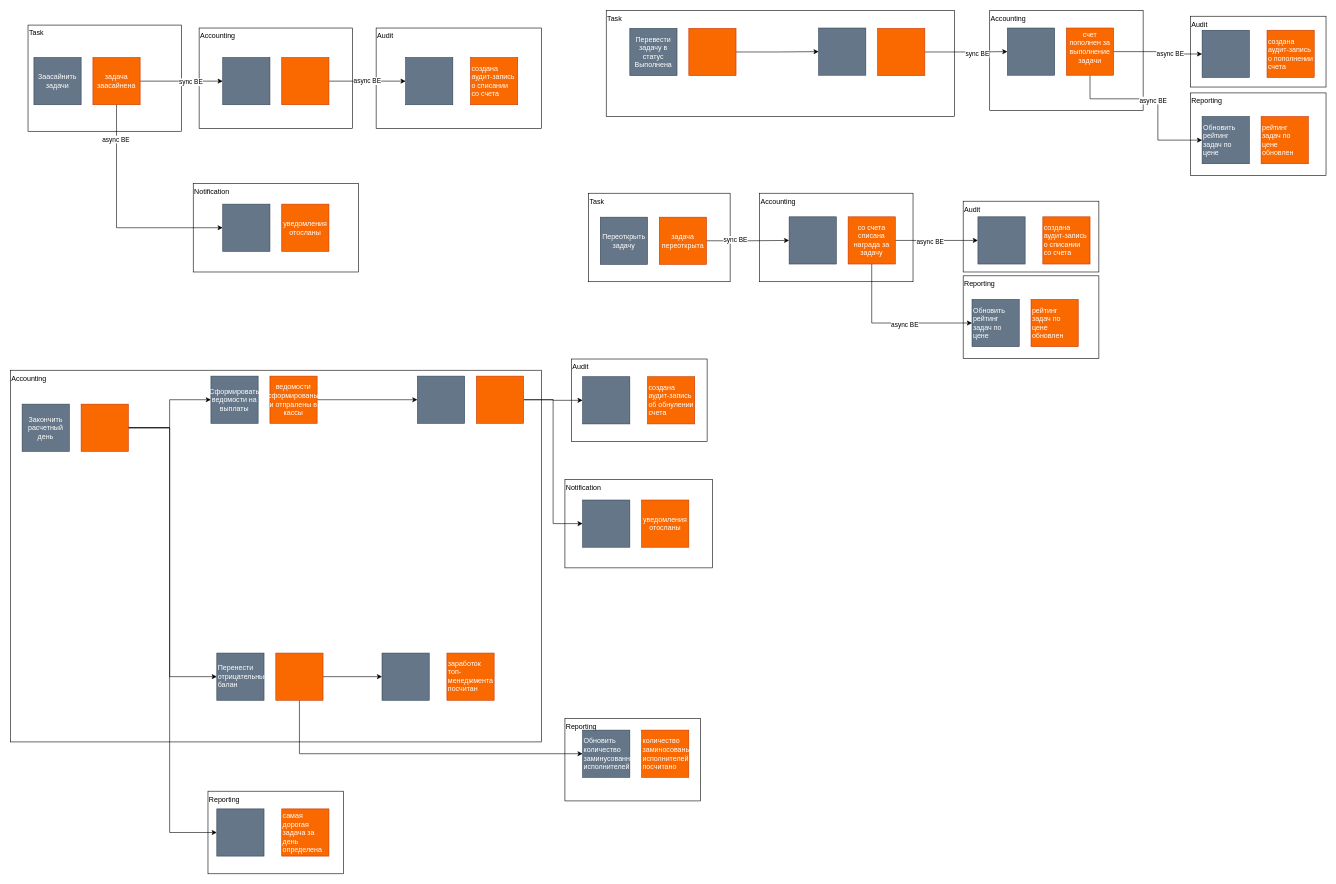
This 1336x884 diagram has some shape labels left out. The shapes that lost their labels are listed below. From the top down, each one's box as (x1, y1, x2, y2) in pixels, then its label:
(688, 28, 736, 76): задача выполнена
(818, 27, 866, 75): Определить стоимость задачи
(877, 28, 925, 76): стоимость задачи определена
(1007, 27, 1055, 75): Пополнить счет исполнителя
(1202, 30, 1249, 77): Создать запись о пополнении счета для аудита
(222, 57, 270, 105): Списать стоимость задачи со счета исполнителя
(281, 57, 329, 105): со счета списаны деньги за ассайн задачи
(405, 57, 453, 105): Создать запись о списании со счета для аудита за задачу
(222, 204, 270, 251): Уведомить сотрудника по почте/слаку о новой задаче
(789, 216, 836, 264): Убрать со счета награду за выполнение задачи
(977, 216, 1025, 264): Создать запись об отмене нарады за задачу для аудита
(417, 376, 465, 423): Обнулить счет сотрудника
(476, 376, 524, 423): счет обнулен
(582, 376, 630, 424): Создать запись о обнулении счета (выплаты)
(81, 404, 128, 451): день закончен
(582, 499, 630, 547): Уведомить сотрудника по почте/слаку о выплате
(275, 652, 323, 700): отицательный баланс перенесен на след. день
(381, 652, 429, 700): Обновить счет топ-менеджмента
(216, 808, 264, 856): Определить самую дорогую задачу за день
